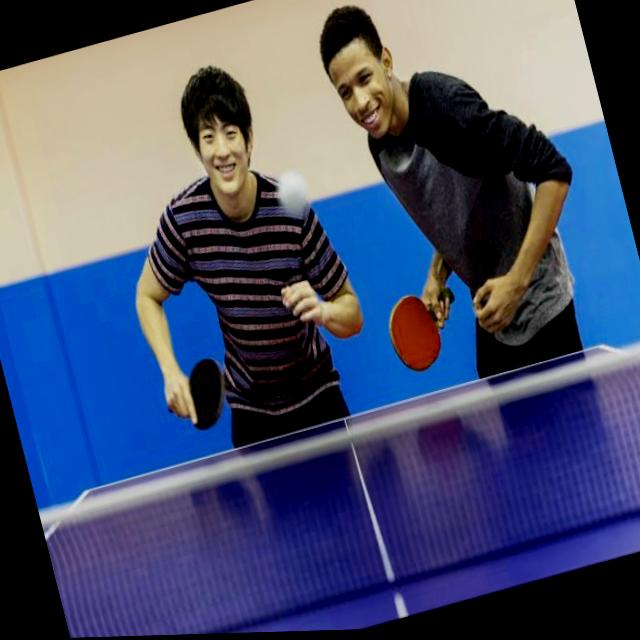TT Net: (38, 338, 640, 638)
TT Racket: (375, 283, 451, 384), (183, 343, 234, 440)
TT Table: (45, 342, 640, 638)
